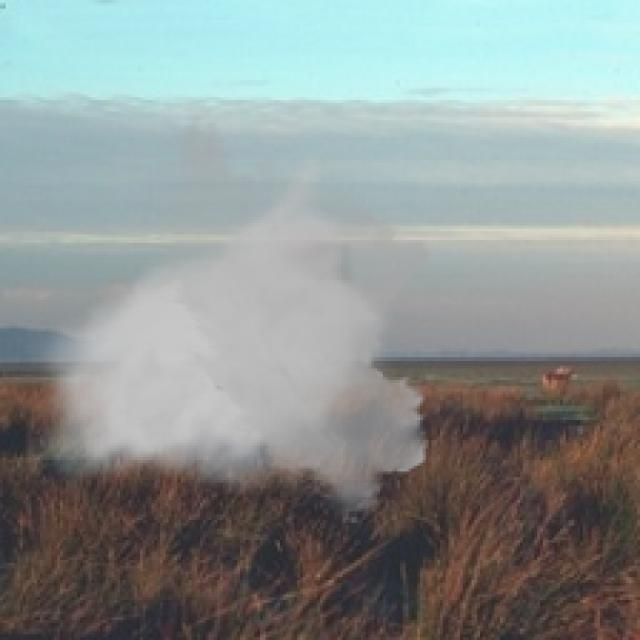smoke: (26, 111, 440, 526)
